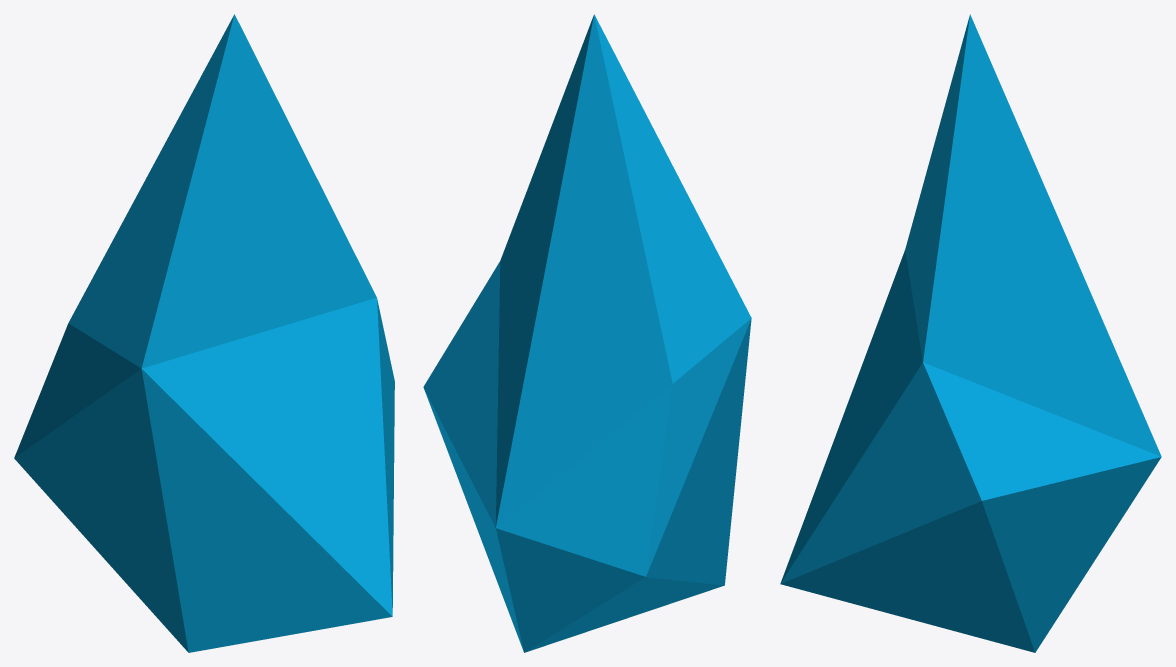
The model's file is drop.obj.
The picture shows the model from 3 angles, left to right: view 1: azimuth 30°, elevation 25°; view 2: azimuth 150°, elevation 25°; view 3: azimuth 270°, elevation 25°; orthographic projection.
Parts seen in each view (by area): view 1: Icosphere; view 2: Icosphere; view 3: Icosphere.
Part boxes in pixels (<box>): Icosphere: <box>14,14,394,652</box>; Icosphere: <box>423,14,751,652</box>; Icosphere: <box>780,14,1161,652</box>.
Size of the model in its own units: 0.00664 by 0.0132 by 0.00735.
Materials: 1 (1 with a texture image).
